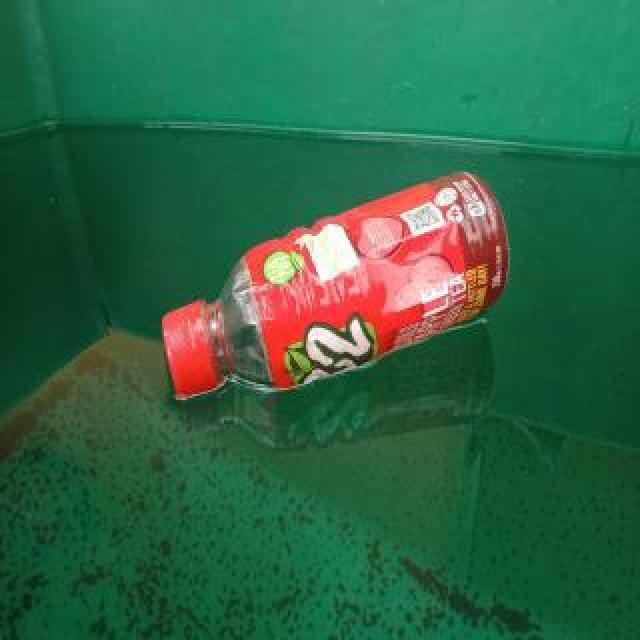bottle: (160, 167, 512, 405)
